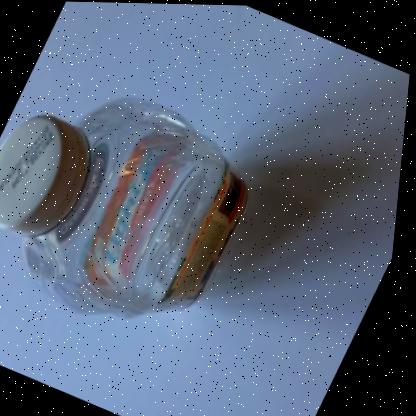Plastic: (0, 97, 252, 317)
